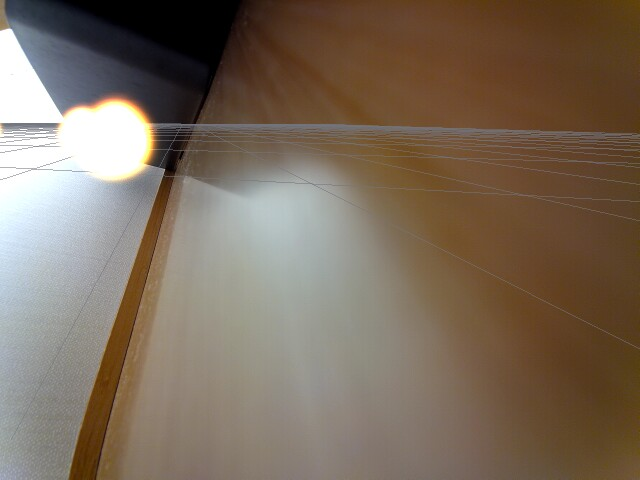firebig: (93, 77, 155, 181)
